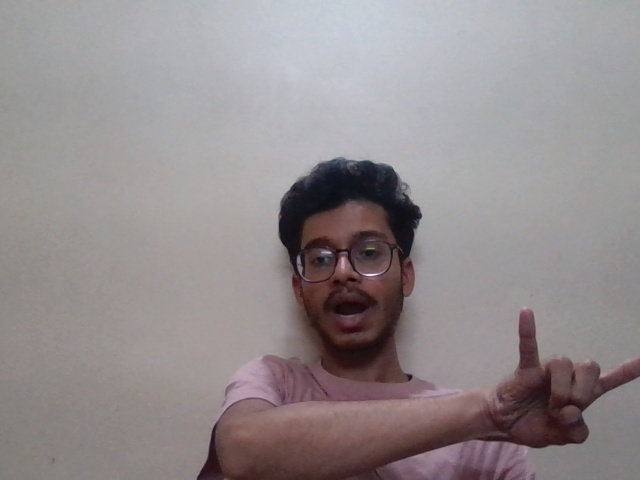i-love-you: (492, 306, 635, 451)
